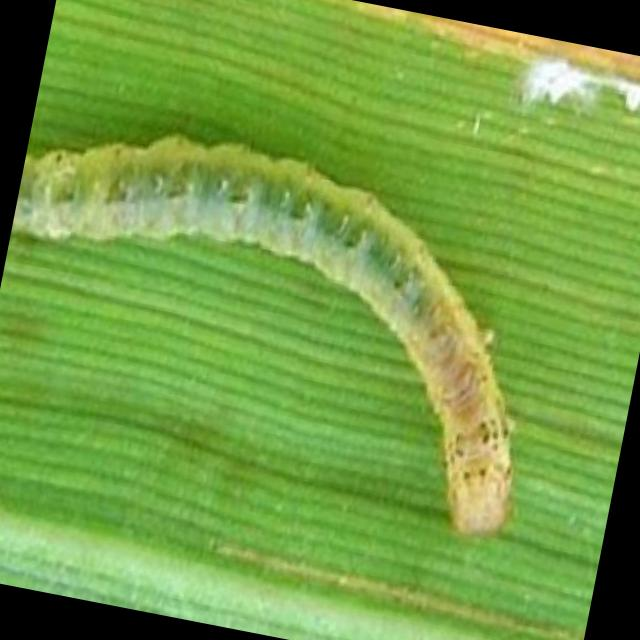leaf-folder: (0, 94, 576, 561)
